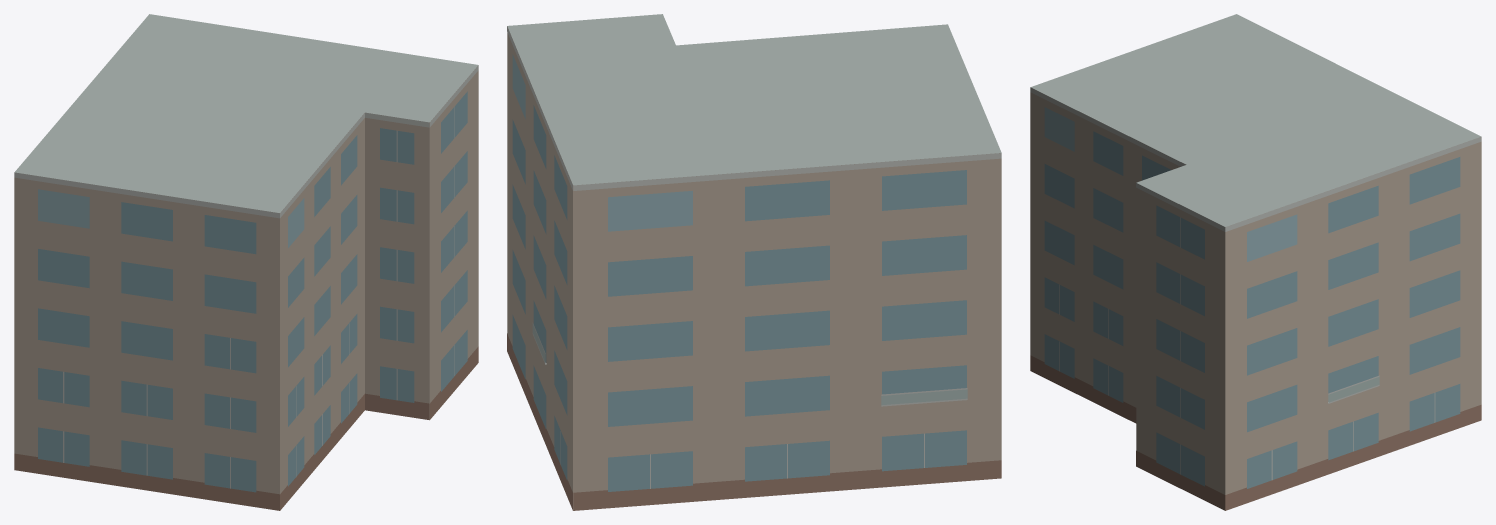
Rendered from survey-upis-32813539.glb.
3 views of the same model, side by side, from view 1: azimuth 30°, elevation 25°; view 2: azimuth 150°, elevation 25°; view 3: azimuth 270°, elevation 25° (orthographic). The views are drawn at different scales.
Parts seen in each view (by area): view 1: survey-upis-32813539.tmp; view 2: survey-upis-32813539.tmp; view 3: survey-upis-32813539.tmp.
Boxes of the visible parts, x1=… form: survey-upis-32813539.tmp: x1=14, y1=14, x2=478, y2=510; survey-upis-32813539.tmp: x1=507, y1=14, x2=1001, y2=510; survey-upis-32813539.tmp: x1=1030, y1=14, x2=1481, y2=510.
Bounding box in the file's own units: 22.56 × 14 × 20.19.
